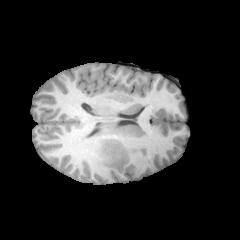glioma: (100, 139, 133, 173)
